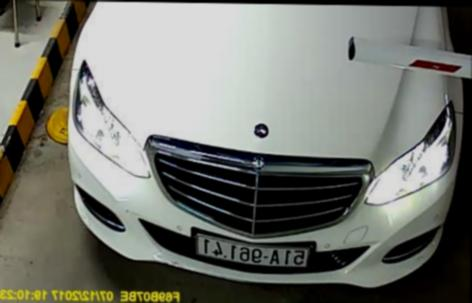License_Plate: (191, 233, 317, 269)
